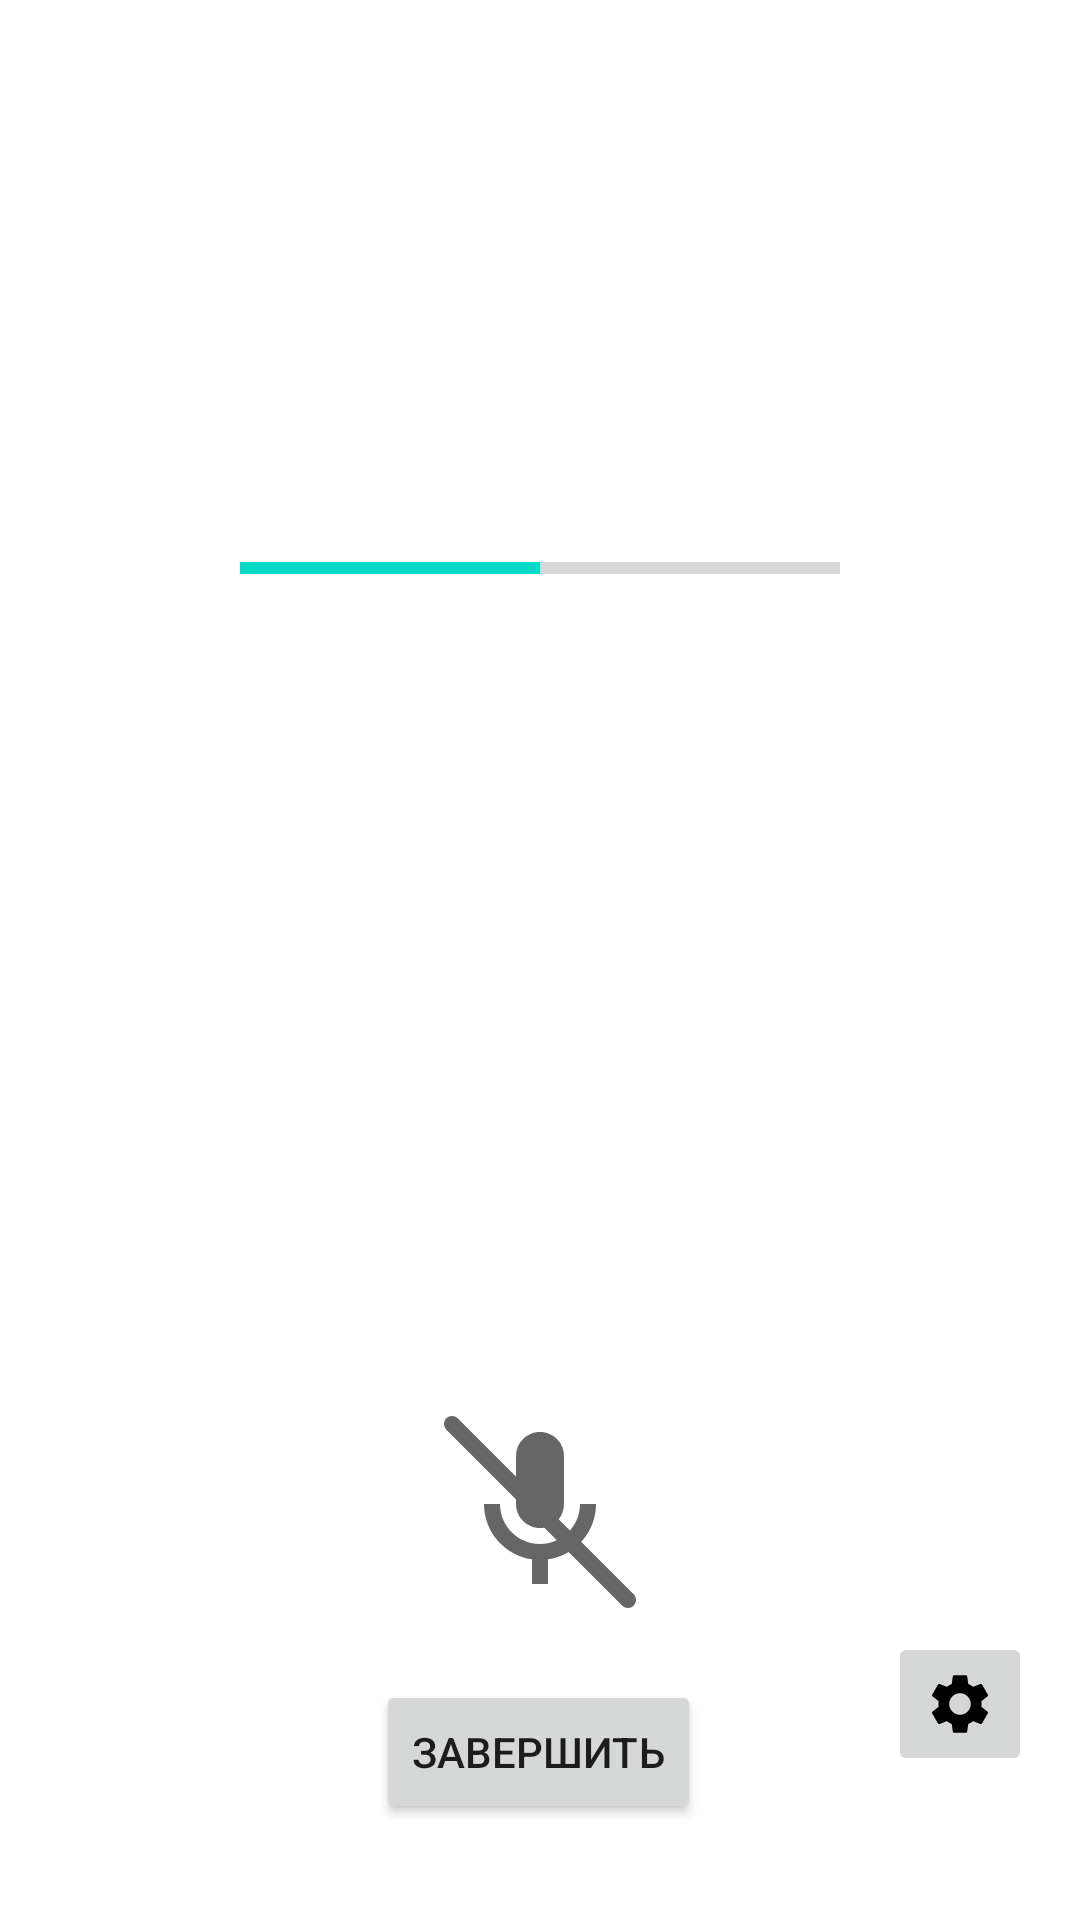

Point at icon controls on the screen. Image size 1080x1920, points as [x,y].
mic off: [540,1512]
settings: [960,1704]
